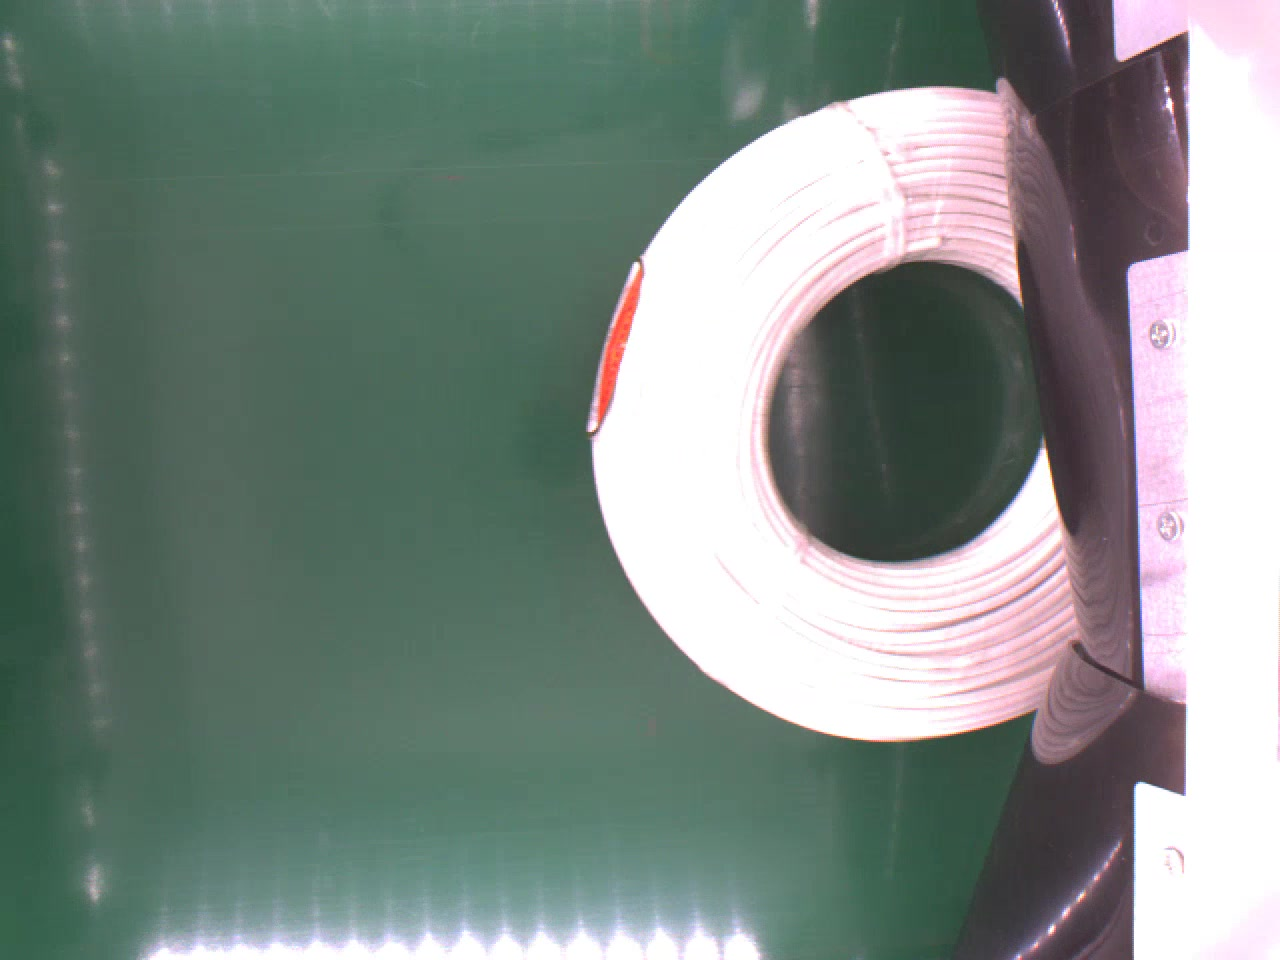white: (585, 85, 1075, 762)
